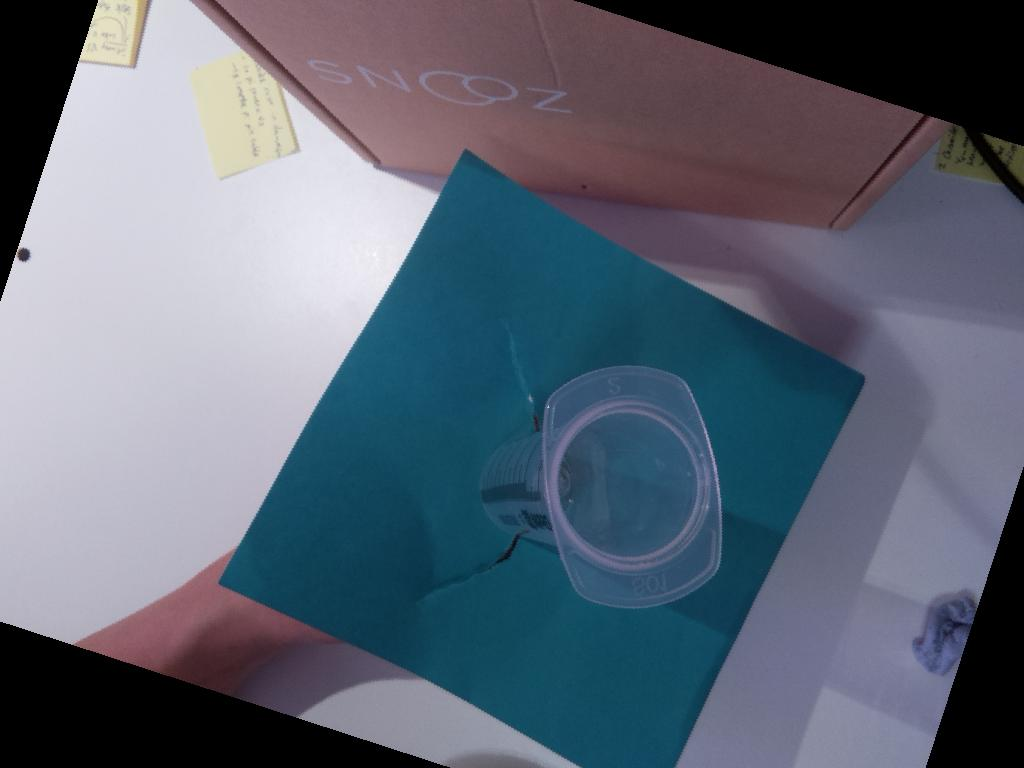clean: (540, 362, 726, 608)
